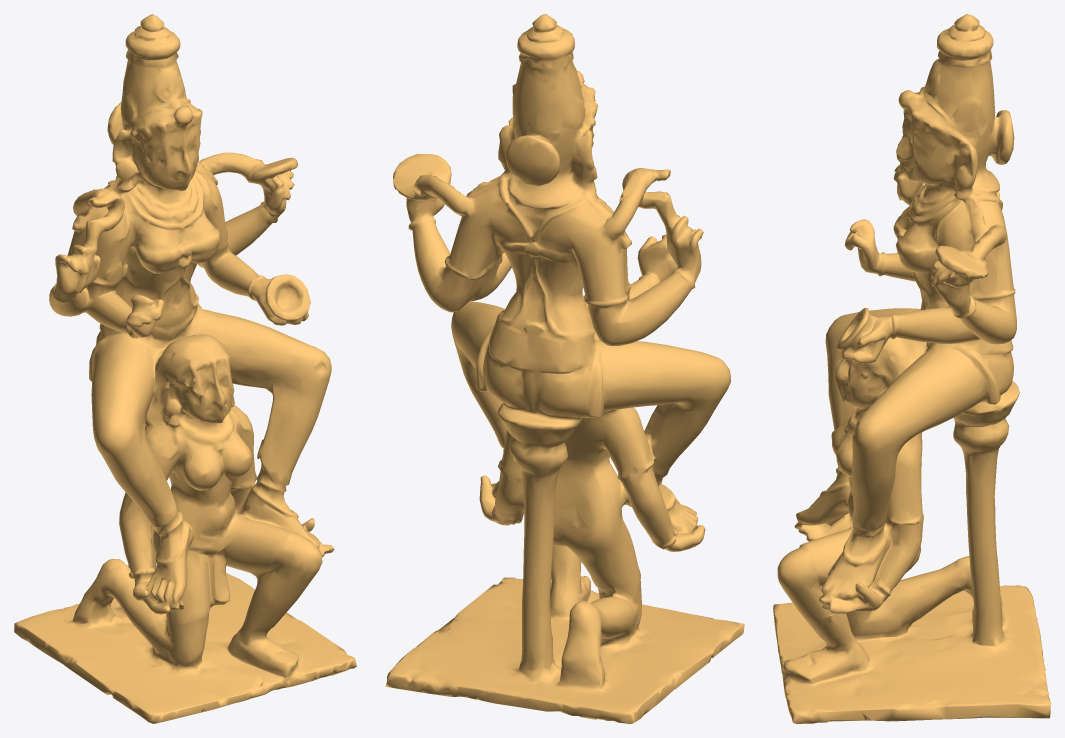
Rendered from Grama_Devadhai_Bagavathi_Amman1_01.glb.
The picture shows the model from 3 angles, left to right: view 1: azimuth 30°, elevation 25°; view 2: azimuth 150°, elevation 25°; view 3: azimuth 270°, elevation 25°; orthographic projection. The views are drawn at different scales.
Visible parts, largest first — view 1: Grama_Devadhai_Bagavathi_Amman_01; view 2: Grama_Devadhai_Bagavathi_Amman_01; view 3: Grama_Devadhai_Bagavathi_Amman_01.
Part boxes in pixels (x1,y1,x2,y2): Grama_Devadhai_Bagavathi_Amman_01: (14, 14, 356, 723); Grama_Devadhai_Bagavathi_Amman_01: (385, 14, 744, 723); Grama_Devadhai_Bagavathi_Amman_01: (773, 14, 1050, 723).
Size of the model in its own units: 0.3507 by 0.8018 by 0.3113.
